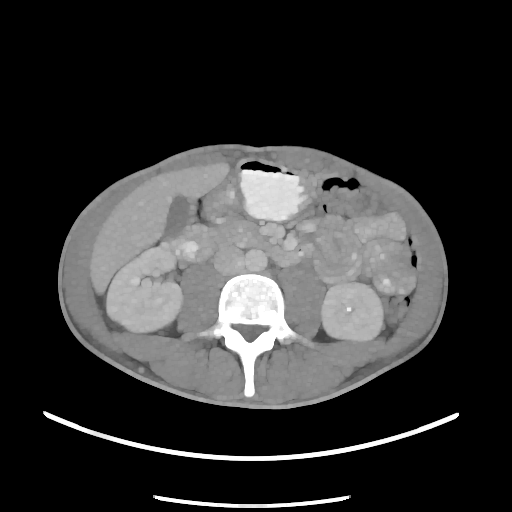Lesion: (379, 321, 388, 335)
